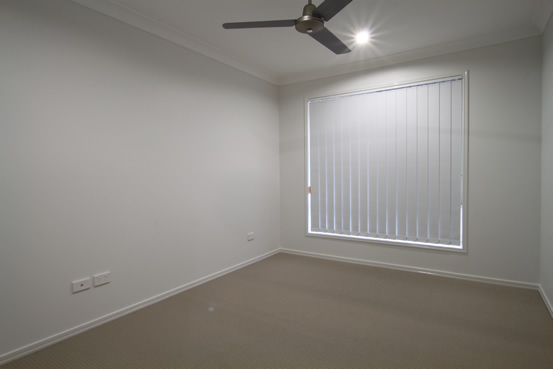ceiling fan: (219, 1, 372, 62)
